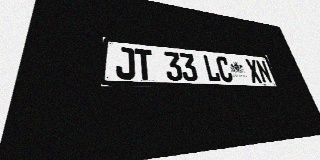3: (164, 51, 183, 81), (179, 53, 198, 81)
C: (215, 56, 234, 82)
J: (116, 47, 135, 79)
L: (202, 55, 221, 82)
N: (255, 60, 273, 83)
T: (134, 48, 154, 80)
X: (244, 59, 263, 83)
